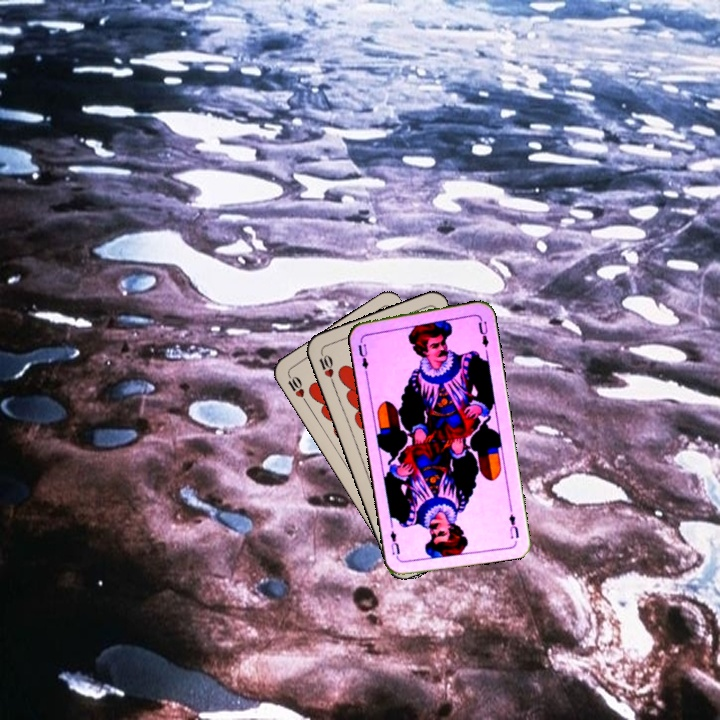EU: (354, 340, 371, 375), (505, 509, 521, 541)
H10: (283, 369, 310, 406), (315, 348, 337, 387)
